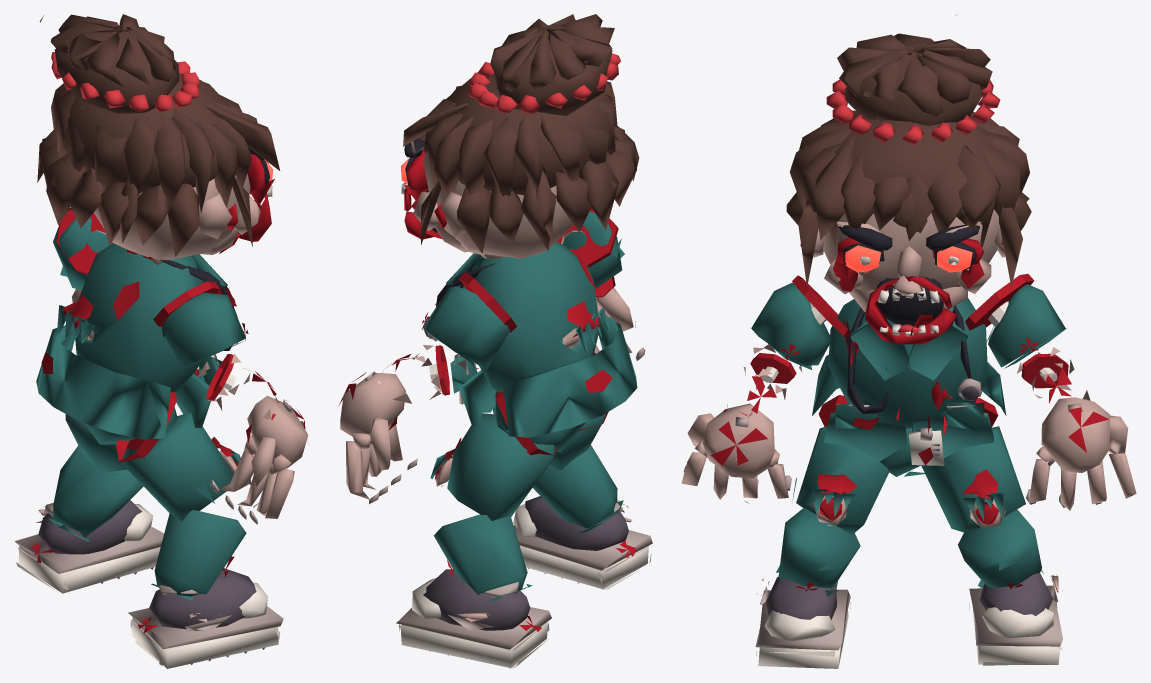
The picture shows the model from 3 angles, left to right: view 1: azimuth 30°, elevation 25°; view 2: azimuth 150°, elevation 25°; view 3: azimuth 270°, elevation 25°; orthographic projection.
Parts seen in each view (by area): view 1: head, torso, footR, footL, legR, handR, shinR, shinL, armR, armL, legL, stump_armL (+4 smaller); view 2: head, torso, footL, footR, legL, handL, shinL, armL, shinR, armR, legR, handR (+5 smaller); view 3: head, torso, handL, footR, footL, handR, legL, legR, shinR, shinL, armR, armL (+6 smaller).
Boxes of the visible parts, <box> form: head: <box>37,14,279,264</box>; torso: <box>36,243,237,439</box>; footR: <box>128,568,283,668</box>; footL: <box>15,500,164,593</box>; legR: <box>120,413,240,521</box>; handR: <box>210,395,309,524</box>; shinR: <box>151,510,246,600</box>; shinL: <box>44,446,143,541</box>; armR: <box>161,292,250,401</box>; armL: <box>53,217,112,290</box>; legL: <box>65,414,126,475</box>; stump_armL: <box>56,208,113,274</box>; head: <box>401,14,639,258</box>; torso: <box>424,242,637,437</box>; footL: <box>396,569,551,668</box>; footR: <box>513,496,652,589</box>; legL: <box>430,413,557,520</box>; handL: <box>338,372,417,504</box>; shinL: <box>433,514,532,603</box>; armL: <box>412,286,509,392</box>; shinR: <box>532,445,623,534</box>; armR: <box>563,211,624,301</box>; legR: <box>548,413,605,470</box>; handR: <box>594,287,645,360</box>; head: <box>786,15,1031,344</box>; torso: <box>812,298,1006,465</box>; handL: <box>1026,397,1136,510</box>; footR: <box>755,576,850,668</box>; footL: <box>969,573,1062,665</box>; handR: <box>681,403,791,503</box>; legL: <box>921,426,1025,532</box>; legR: <box>792,426,888,534</box>; shinR: <box>776,508,860,607</box>; shinL: <box>958,509,1043,588</box>; armR: <box>743,282,830,393</box>; armL: <box>986,284,1074,398</box>.
Size of the model in its own units: 0.6781 by 1.8 by 1.26.
